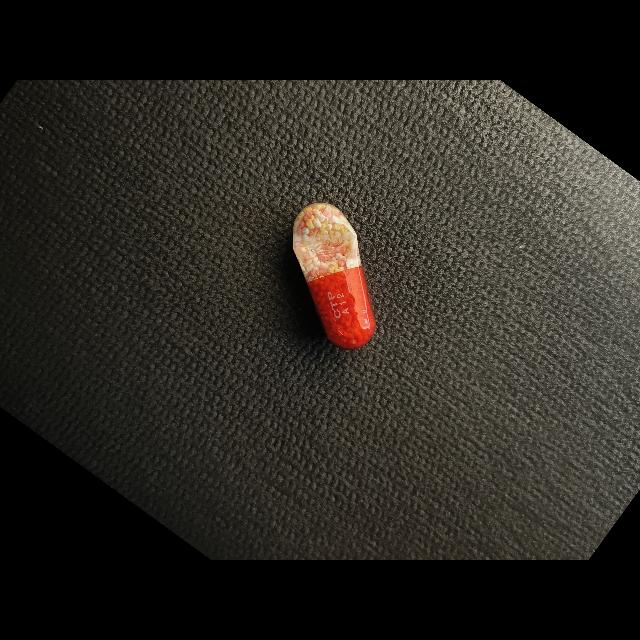Defective Capsule: (293, 203, 376, 349)
